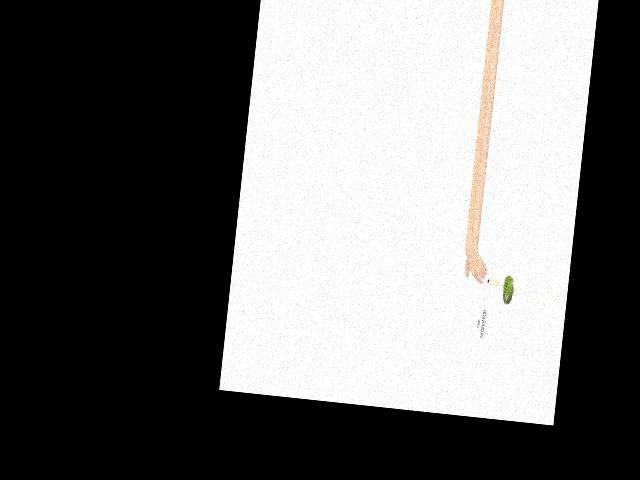cucumber: (501, 274, 514, 304)
